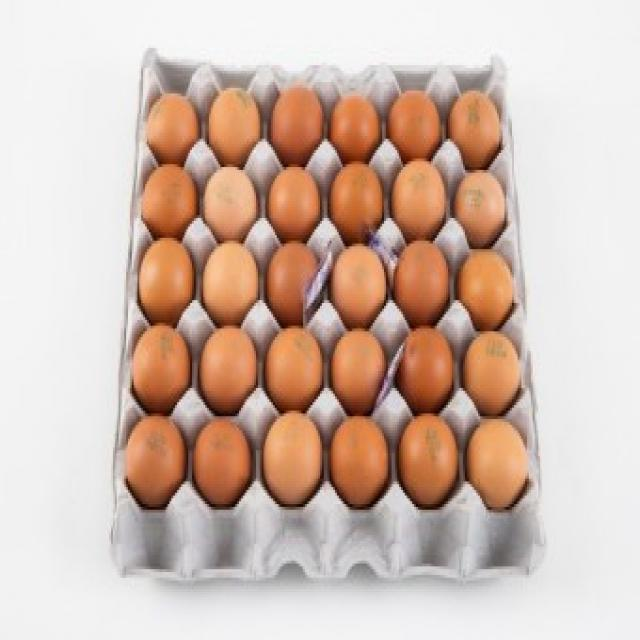eggs: (396, 405, 466, 512), (257, 409, 325, 511), (462, 415, 530, 511), (467, 416, 534, 512), (327, 415, 394, 510), (260, 323, 325, 418), (127, 324, 195, 413), (197, 326, 261, 416), (127, 415, 190, 506), (331, 241, 393, 333), (192, 418, 254, 508), (264, 239, 323, 333), (392, 241, 452, 332), (138, 232, 196, 326), (327, 331, 389, 417), (444, 83, 505, 169), (389, 157, 449, 244), (201, 162, 261, 248), (203, 242, 261, 330), (462, 332, 522, 416), (458, 250, 520, 330), (206, 89, 266, 170), (401, 328, 456, 416), (143, 91, 202, 168), (267, 164, 325, 242), (328, 163, 386, 241), (268, 84, 324, 164), (452, 169, 507, 246), (333, 91, 385, 161), (389, 90, 442, 158)
